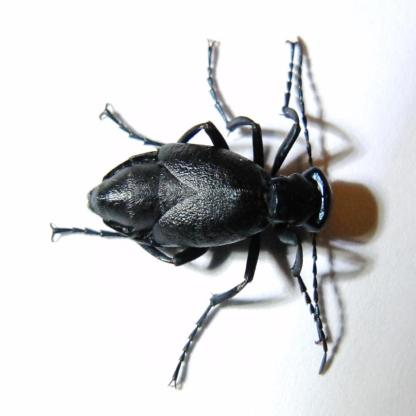beetle: (32, 26, 361, 381)
